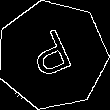P_SE: (25, 25, 80, 86)
